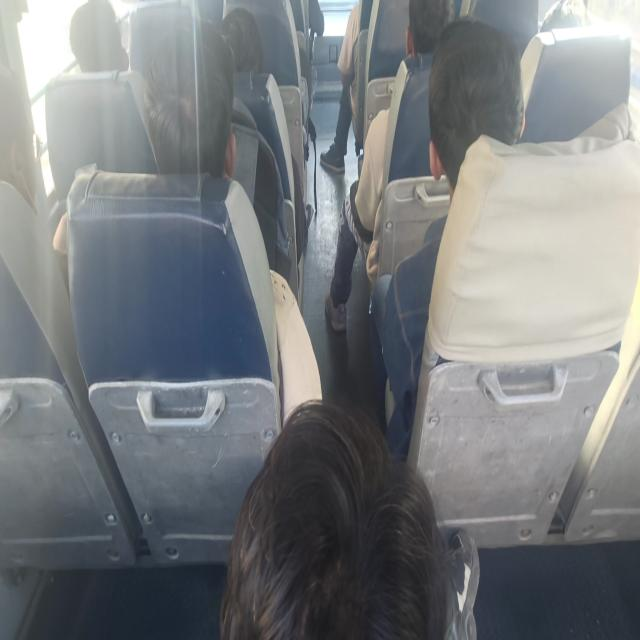person: (143, 21, 322, 425), (368, 16, 526, 459), (219, 397, 467, 638), (324, 0, 455, 332), (142, 22, 236, 178), (319, 1, 361, 174), (69, 0, 129, 73), (405, 0, 455, 57), (220, 7, 262, 73), (539, 0, 590, 32)
